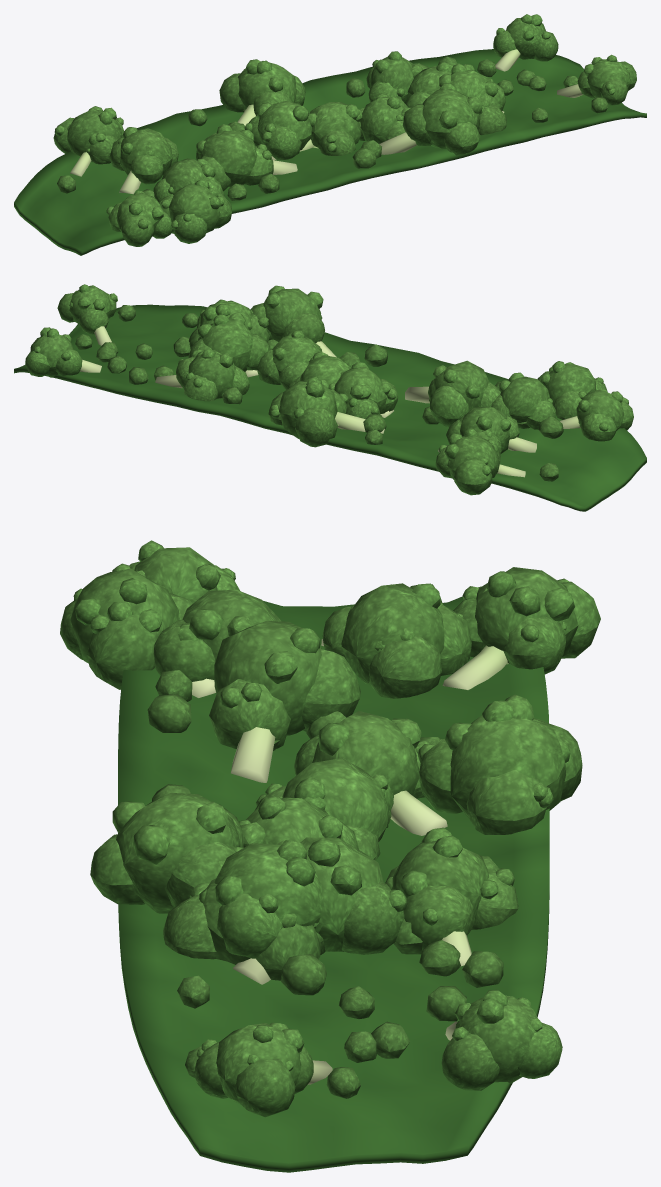
File: brocolis-floretes.glb
The picture shows the model from 3 angles, top to bottom: view 1: azimuth 30°, elevation 25°; view 2: azimuth 150°, elevation 25°; view 3: azimuth 270°, elevation 25°; orthographic projection. The views are drawn at different scales.
Visible parts, largest first — view 1: brocolis_floretes_mesh; view 2: brocolis_floretes_mesh; view 3: brocolis_floretes_mesh.
Boxes of the visible parts, x1,y1,x2,y2 form: brocolis_floretes_mesh: [14, 14, 646, 255]; brocolis_floretes_mesh: [14, 284, 646, 511]; brocolis_floretes_mesh: [60, 540, 600, 1172].
Size of the model in its own units: 0.2741 by 0.0406 by 0.1126.
Materials: 2 (1 with a texture image).
